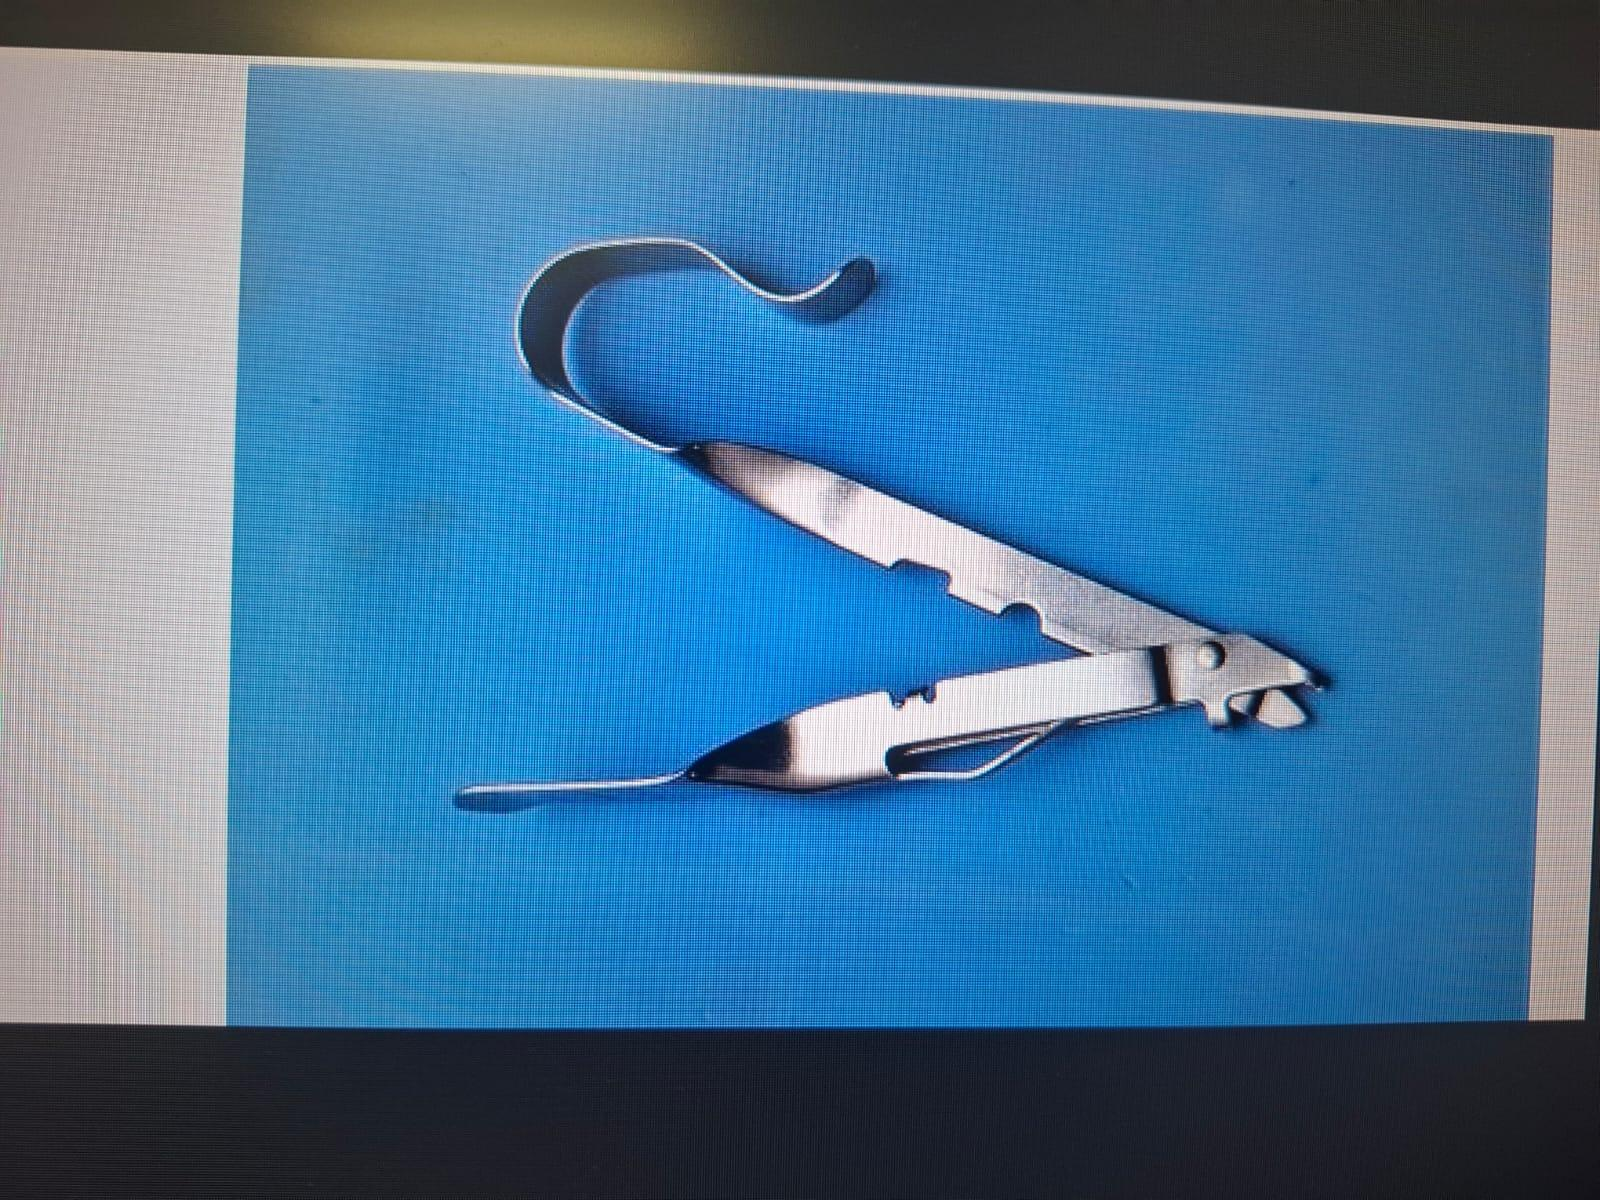Stapler Remover: (440, 218, 1358, 829)
